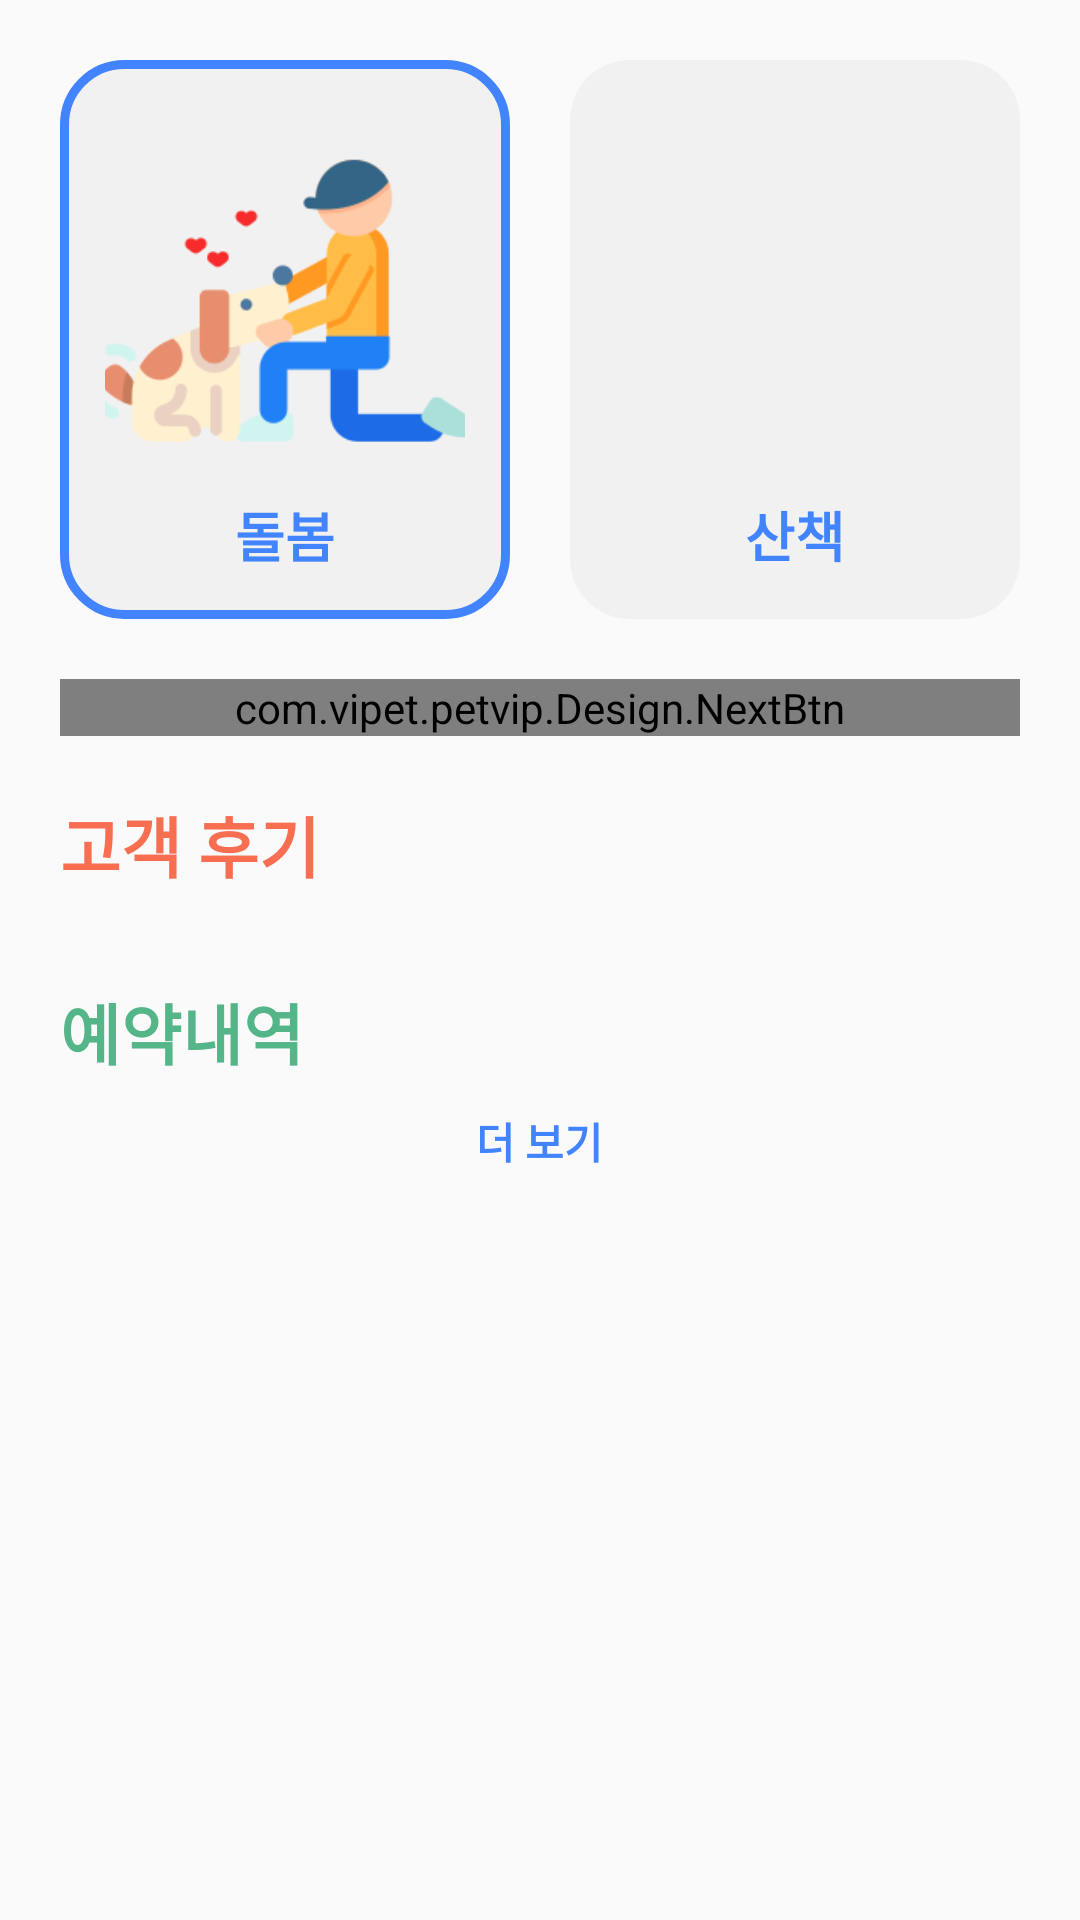

Icon bounding boxes for this 1080px x 1920px phone screenshot, format (x1, y1, x2, y2):
pet play: (105, 159, 465, 442)
